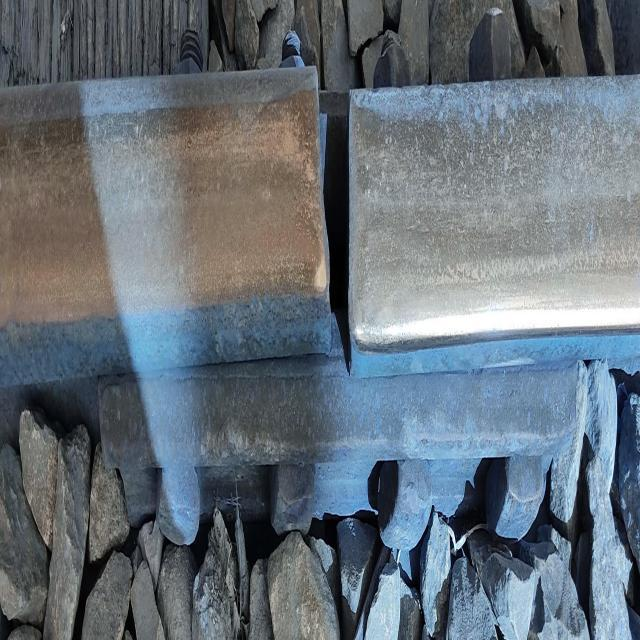Good Joint: (98, 356, 587, 553)
